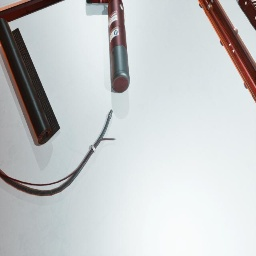FireExtinguisher ]: (86, 0, 109, 4)
FirstAidBox ,: (238, 0, 256, 30)
NitrogenTank ,: (108, 0, 130, 93)
